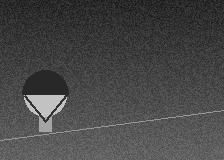helmet: (22, 70, 68, 121)
